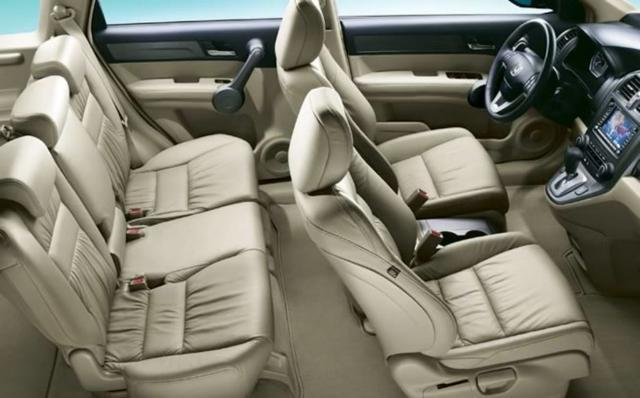Seatbelt: (57, 17, 126, 129)
